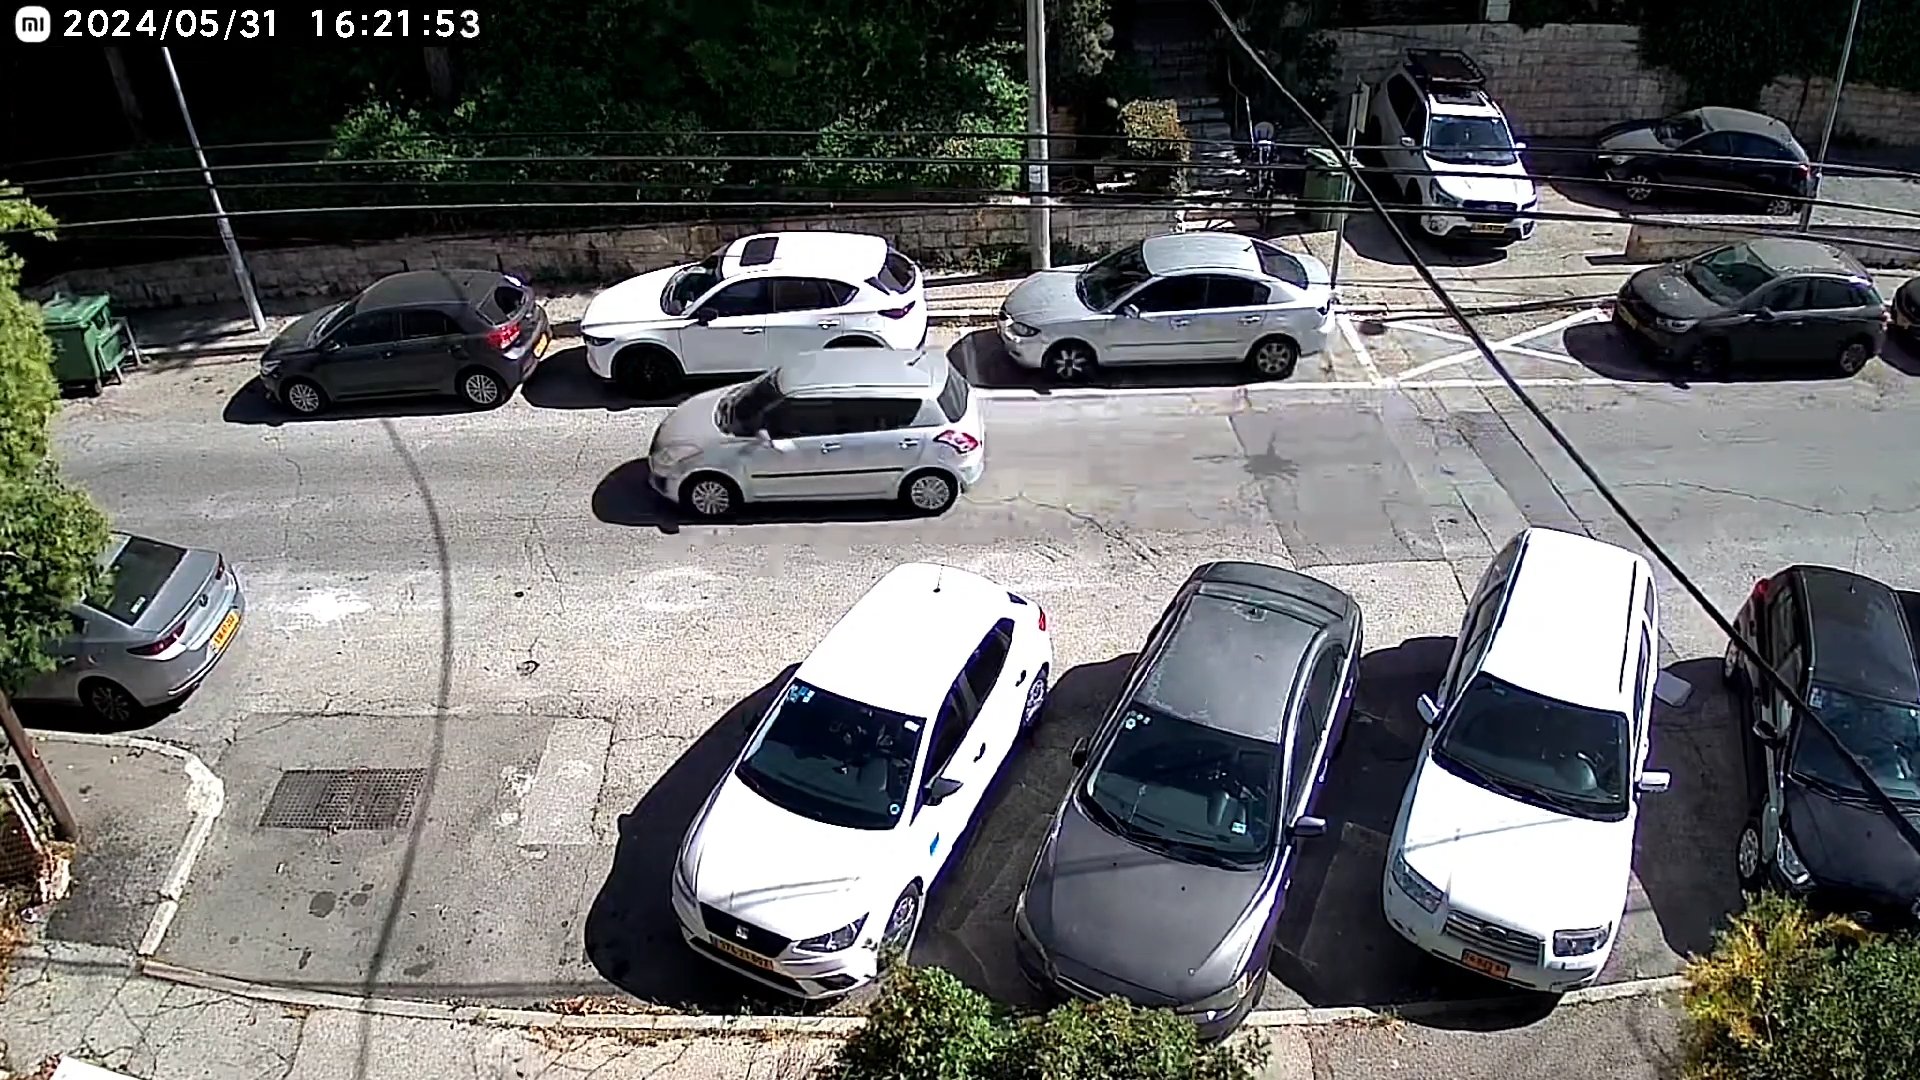moving_car: (849, 463, 1153, 630)
